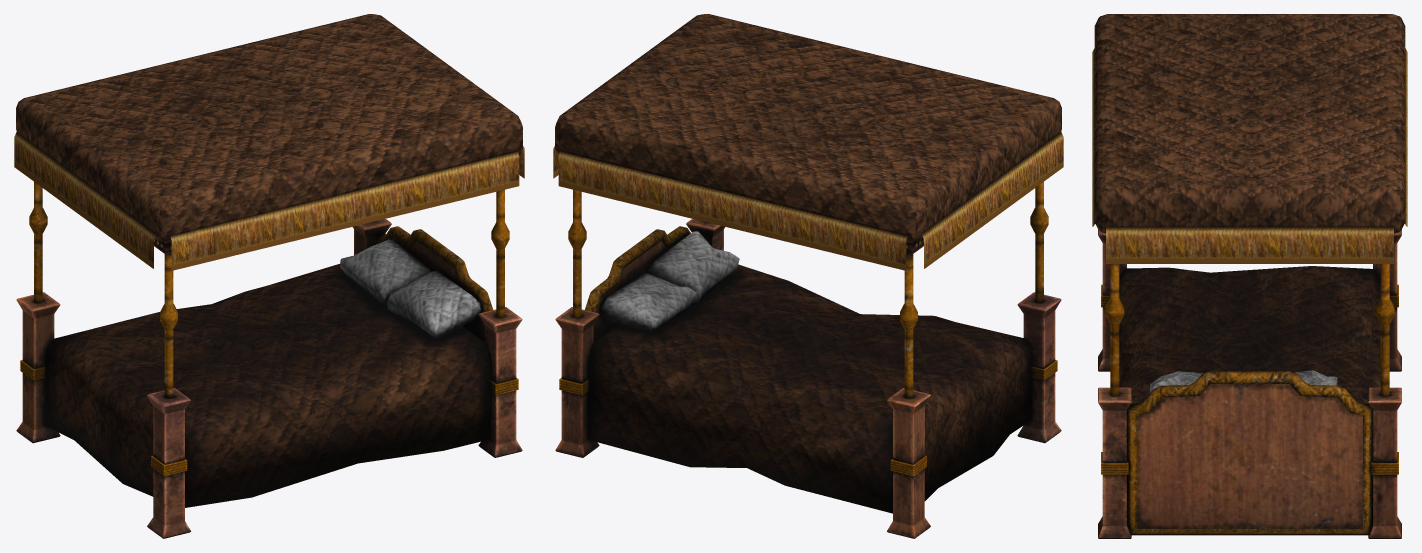
The model's file is bed_nice_brown.dae.
3 renders of one model, left to right at view 1: azimuth 30°, elevation 25°; view 2: azimuth 150°, elevation 25°; view 3: azimuth 270°, elevation 25°, orthographic. The views are drawn at different scales.
Parts seen in each view (by area): view 1: bed_nice_mesh; view 2: bed_nice_mesh; view 3: bed_nice_mesh.
Part boxes in pixels (x1=…): bed_nice_mesh: x1=14, y1=14, x2=524, y2=538; bed_nice_mesh: x1=553, y1=14, x2=1063, y2=538; bed_nice_mesh: x1=1092, y1=14, x2=1407, y2=538.
Size of the model in its own units: 3.42 by 2.95 by 2.43.
